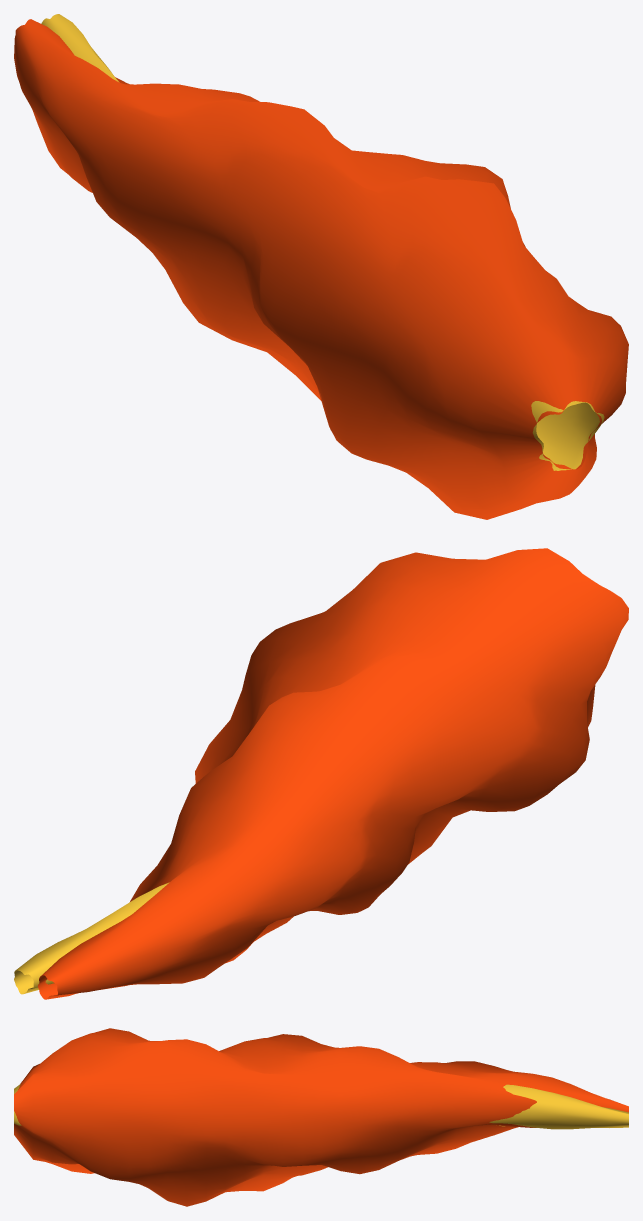
File: flame_volume_v3_3.dae
3 renders of one model, top to bottom at view 1: azimuth 30°, elevation 25°; view 2: azimuth 150°, elevation 25°; view 3: azimuth 270°, elevation 25°, orthographic. The views are drawn at different scales.
Visible parts, largest first — view 1: iaf_shell, iaf_core_mesh; view 2: iaf_shell, iaf_core_mesh; view 3: iaf_shell, iaf_core_mesh.
Part boxes in pixels (x1,y1,x2,y2): iaf_shell: [14, 19, 628, 519]; iaf_core_mesh: [41, 14, 604, 470]; iaf_shell: [38, 548, 628, 999]; iaf_core_mesh: [14, 882, 169, 994]; iaf_shell: [14, 1028, 628, 1206]; iaf_core_mesh: [14, 1084, 628, 1129].
Bounding box in the file's own units: 0.2202 × 0.8 × 0.2261.
